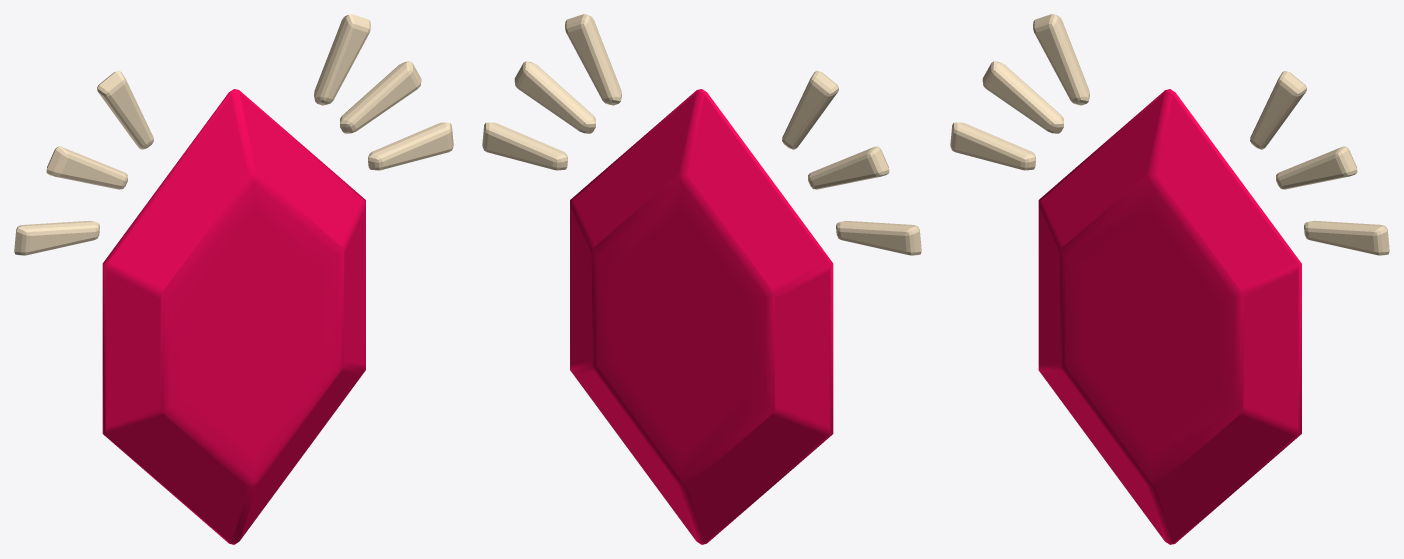
File: diamond.glb
3 renders of one model, left to right at view 1: azimuth 30°, elevation 25°; view 2: azimuth 150°, elevation 25°; view 3: azimuth 330°, elevation 25°, orthographic.
Parts seen in each view (by area): view 1: dimand simple; view 2: dimand simple; view 3: dimand simple.
Part boxes in pixels (box(x1,y1,x2,y2)): dimand simple: box(14, 14, 453, 544); dimand simple: box(482, 14, 921, 544); dimand simple: box(950, 14, 1389, 544).
Bounding box in the file's own units: 0.5285 × 0.5775 × 0.083.
